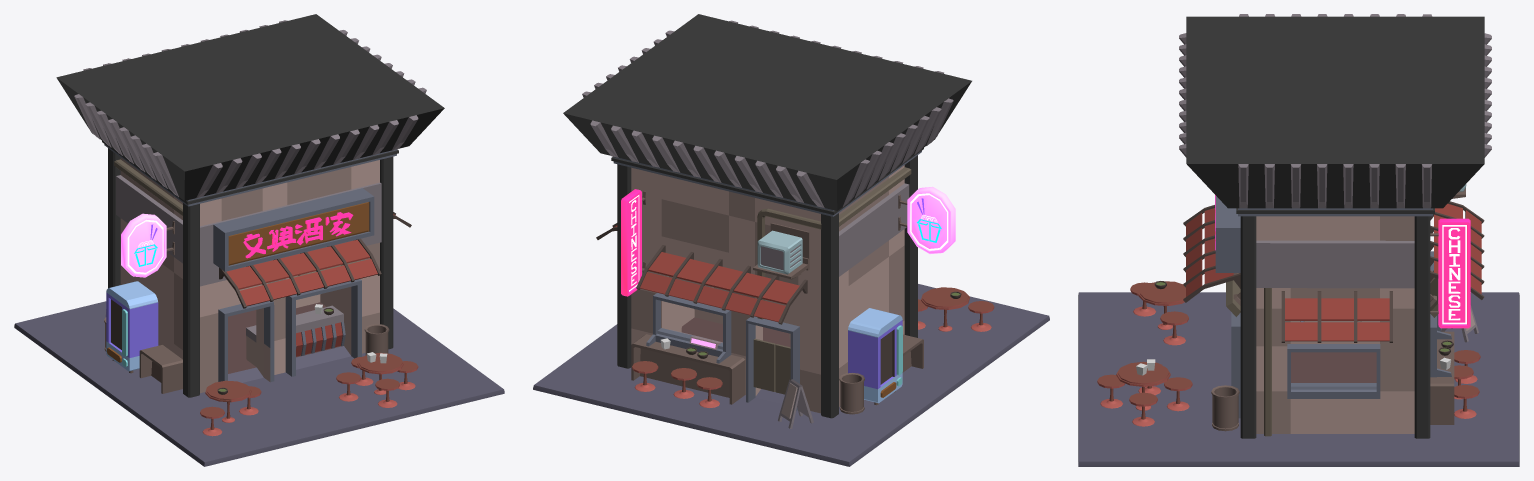
Rendered from ChineseResturant Modded.glb.
3 renders of one model, left to right at view 1: azimuth 30°, elevation 25°; view 2: azimuth 150°, elevation 25°; view 3: azimuth 270°, elevation 25°, orthographic. The views are drawn at different scales.
Parts seen in each view (by area): view 1: Building, Roof, Pillars, Cover.002, VendingMachine, Cube.002, Cube.004, Sign2, Table.001, Cube.010, RoundTable.001, Gutter pipe (+2 smaller); view 2: Building, Roof, Pillars, Cover, VendingMachine, Cube.001, Table, Cube.004, Sign2, Window, Door, Sign.001 (+8 smaller); view 3: Building, Roof, Pillars, Cover.001, Cube.003, Sign, Window.001, Cover.002, Cover, Table, Gutter pipe.001, TrashCan (+9 smaller).
Part boxes in pixels (bbox=[...]): Building: bbox=[14, 157, 504, 466]; Roof: bbox=[56, 14, 444, 206]; Pillars: bbox=[108, 148, 393, 397]; Cover.002: bbox=[219, 239, 377, 308]; VendingMachine: bbox=[106, 281, 158, 371]; Cube.002: bbox=[196, 115, 418, 198]; Cube.004: bbox=[74, 94, 178, 197]; Sign2: bbox=[121, 213, 166, 277]; Table.001: bbox=[139, 345, 182, 393]; Cube.010: bbox=[296, 322, 342, 356]; RoundTable.001: bbox=[205, 380, 251, 422]; Gutter pipe: bbox=[114, 159, 182, 215]; Building: bbox=[533, 165, 1049, 466]; Roof: bbox=[563, 14, 971, 216]; Pillars: bbox=[617, 155, 917, 418]; Cover: bbox=[636, 245, 799, 321]; VendingMachine: bbox=[848, 308, 902, 403]; Cube.001: bbox=[590, 120, 824, 207]; Table: bbox=[631, 334, 745, 404]; Cube.004: bbox=[843, 98, 953, 206]; Sign2: bbox=[907, 186, 955, 254]; Window: bbox=[653, 293, 731, 358]; Door: bbox=[753, 338, 790, 394]; Sign.001: bbox=[624, 189, 641, 296]; Building: bbox=[1078, 195, 1519, 466]; Roof: bbox=[1186, 16, 1484, 216]; Pillars: bbox=[1240, 216, 1430, 438]; Cover.001: bbox=[1281, 291, 1389, 342]; Cube.003: bbox=[1238, 164, 1432, 208]; Sign: bbox=[1438, 220, 1470, 328]; Window.001: bbox=[1287, 344, 1380, 398]; Cover.002: bbox=[1183, 205, 1240, 296]; Cover: bbox=[1430, 203, 1484, 299]; Table: bbox=[1430, 330, 1454, 424]; Gutter pipe.001: bbox=[1264, 288, 1271, 436]; TrashCan: bbox=[1211, 385, 1239, 431].
Size of the model in its own units: 51 by 41.35 by 55.94.
